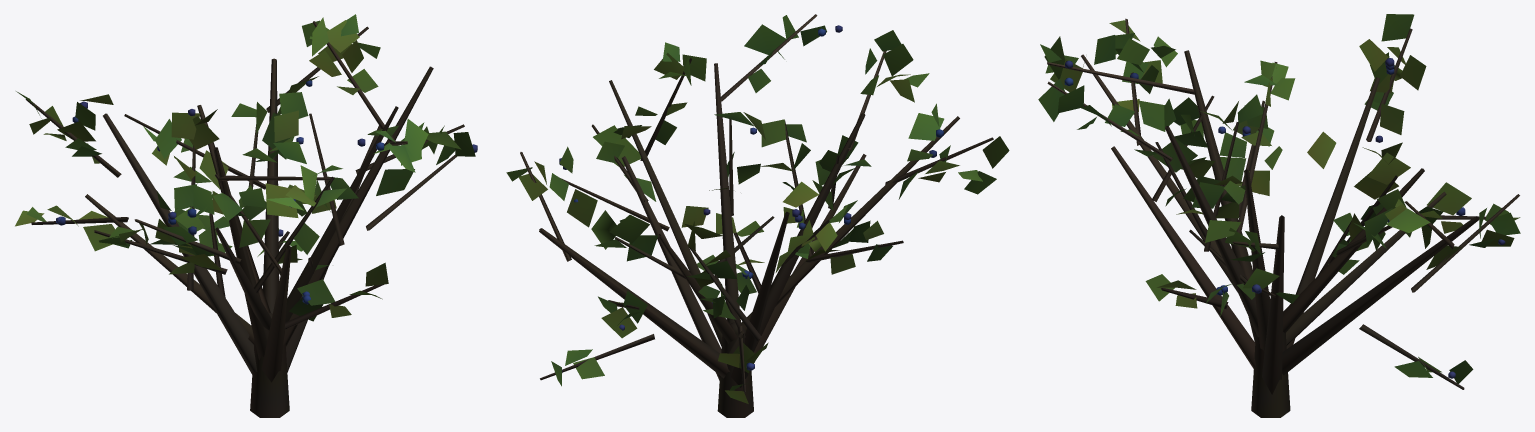
Rendered from bush-blueberry-a.lod1.glb.
3 renders of one model, left to right at view 1: azimuth 30°, elevation 25°; view 2: azimuth 150°, elevation 25°; view 3: azimuth 270°, elevation 25°, orthographic. The views are drawn at different scales.
Parts seen in each view (by area): view 1: bush-blueberry-a.lod1; view 2: bush-blueberry-a.lod1; view 3: bush-blueberry-a.lod1.
Part boxes in pixels (left/top/right/bottom): bush-blueberry-a.lod1: left=15, top=14, right=477, bottom=417; bush-blueberry-a.lod1: left=506, top=14, right=1009, bottom=417; bush-blueberry-a.lod1: left=1038, top=14, right=1520, bottom=417.
Size of the model in its own units: 0.8964 by 0.7593 by 0.8845.
